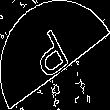P_SE: (30, 24, 80, 86)
